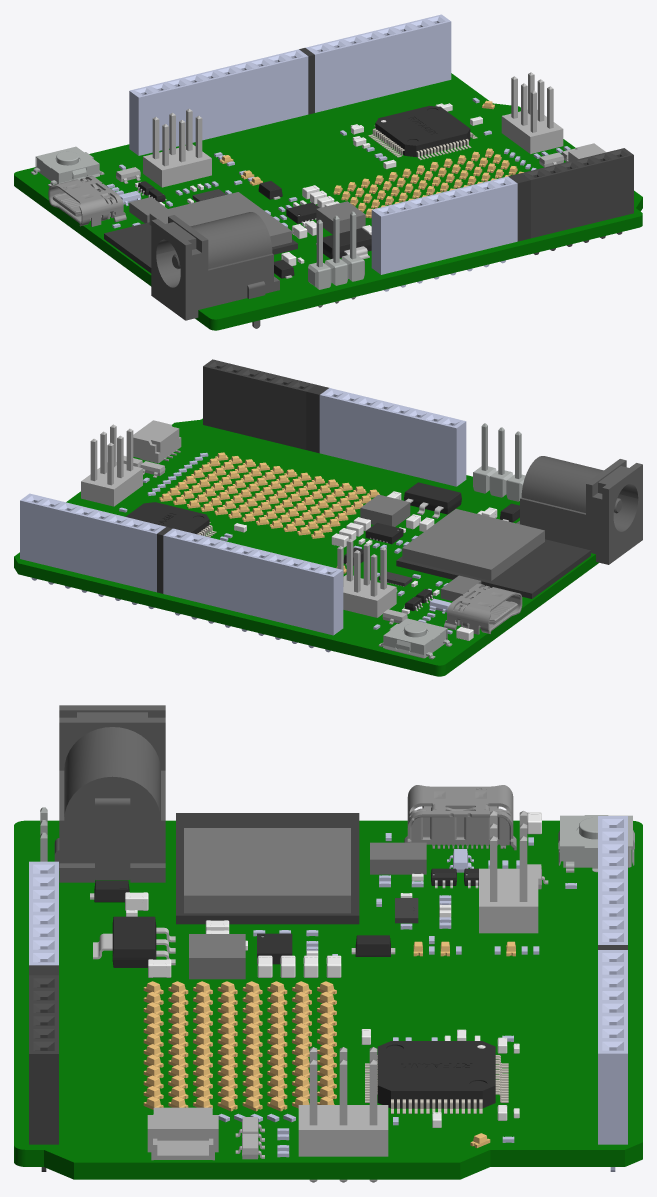
File: arduino-uno-r4-wifi.glb
3 renders of one model, top to bottom at view 1: azimuth 30°, elevation 25°; view 2: azimuth 150°, elevation 25°; view 3: azimuth 270°, elevation 25°, orthographic. The views are drawn at different scales.
Visible parts, largest first — view 1: PCB, CAD_GEOMETRY_UNIDENTIFIED, JDIGITAL, JANALOG, J5, M1, U1, J1, PB1; view 2: PCB, CAD_GEOMETRY_UNIDENTIFIED, JDIGITAL, JANALOG, J5, M1, J1, PB1, U1, J2; view 3: PCB, CAD_GEOMETRY_UNIDENTIFIED, M1, J5, JDIGITAL, U1, JANALOG, J1, J2, PB1.
Boxes of the visible parts, x1=… form: PCB: x1=14, y1=73, x2=642, y2=330; CAD_GEOMETRY_UNIDENTIFIED: x1=106, y1=72, x2=575, y2=307; JDIGITAL: x1=129, y1=14, x2=451, y2=155; JANALOG: x1=371, y1=148, x2=633, y2=291; J5: x1=151, y1=212, x2=279, y2=328; M1: x1=104, y1=192, x2=297, y2=273; U1: x1=368, y1=105, x2=477, y2=160; J1: x1=48, y1=175, x2=126, y2=226; PB1: x1=31, y1=146, x2=104, y2=186; PCB: x1=14, y1=418, x2=598, y2=676; CAD_GEOMETRY_UNIDENTIFIED: x1=81, y1=423, x2=525, y2=640; JDIGITAL: x1=20, y1=493, x2=343, y2=652; JANALOG: x1=203, y1=359, x2=466, y2=486; J5: x1=516, y1=456, x2=642, y2=564; M1: x1=396, y1=509, x2=590, y2=598; J1: x1=444, y1=583, x2=522, y2=634; PB1: x1=378, y1=618, x2=452, y2=659; U1: x1=125, y1=502, x2=216, y2=537; J2: x1=133, y1=420, x2=181, y2=463; PCB: x1=14, y1=820, x2=642, y2=1179; CAD_GEOMETRY_UNIDENTIFIED: x1=40, y1=807, x2=576, y2=1182; M1: x1=176, y1=813, x2=359, y2=924; J5: x1=54, y1=705, x2=165, y2=882; JDIGITAL: x1=598, y1=816, x2=627, y2=1171; U1: x1=365, y1=1041, x2=508, y2=1113; JANALOG: x1=29, y1=861, x2=58, y2=1171; J1: x1=404, y1=785, x2=516, y2=850; J2: x1=147, y1=1107, x2=218, y2=1160; PB1: x1=558, y1=815, x2=634, y2=872.
Bounding box in the file's own units: 0.0705 × 0.0145 × 0.0533.
